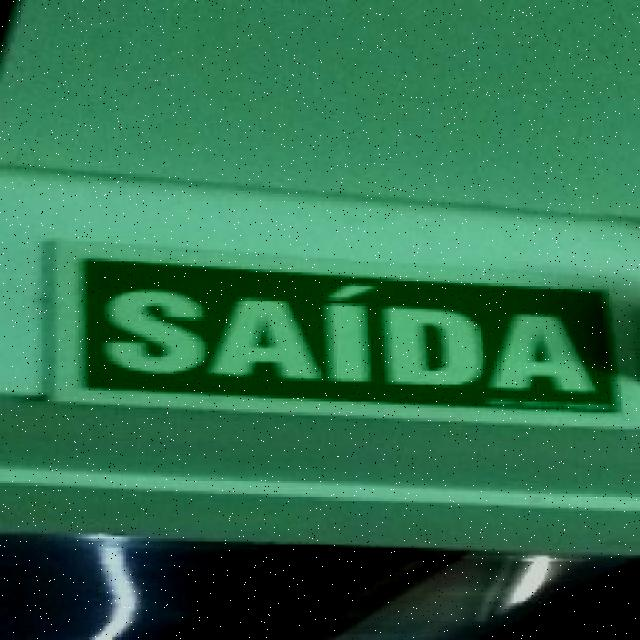emergency_exit: (1, 1, 639, 560), (73, 255, 619, 413)
